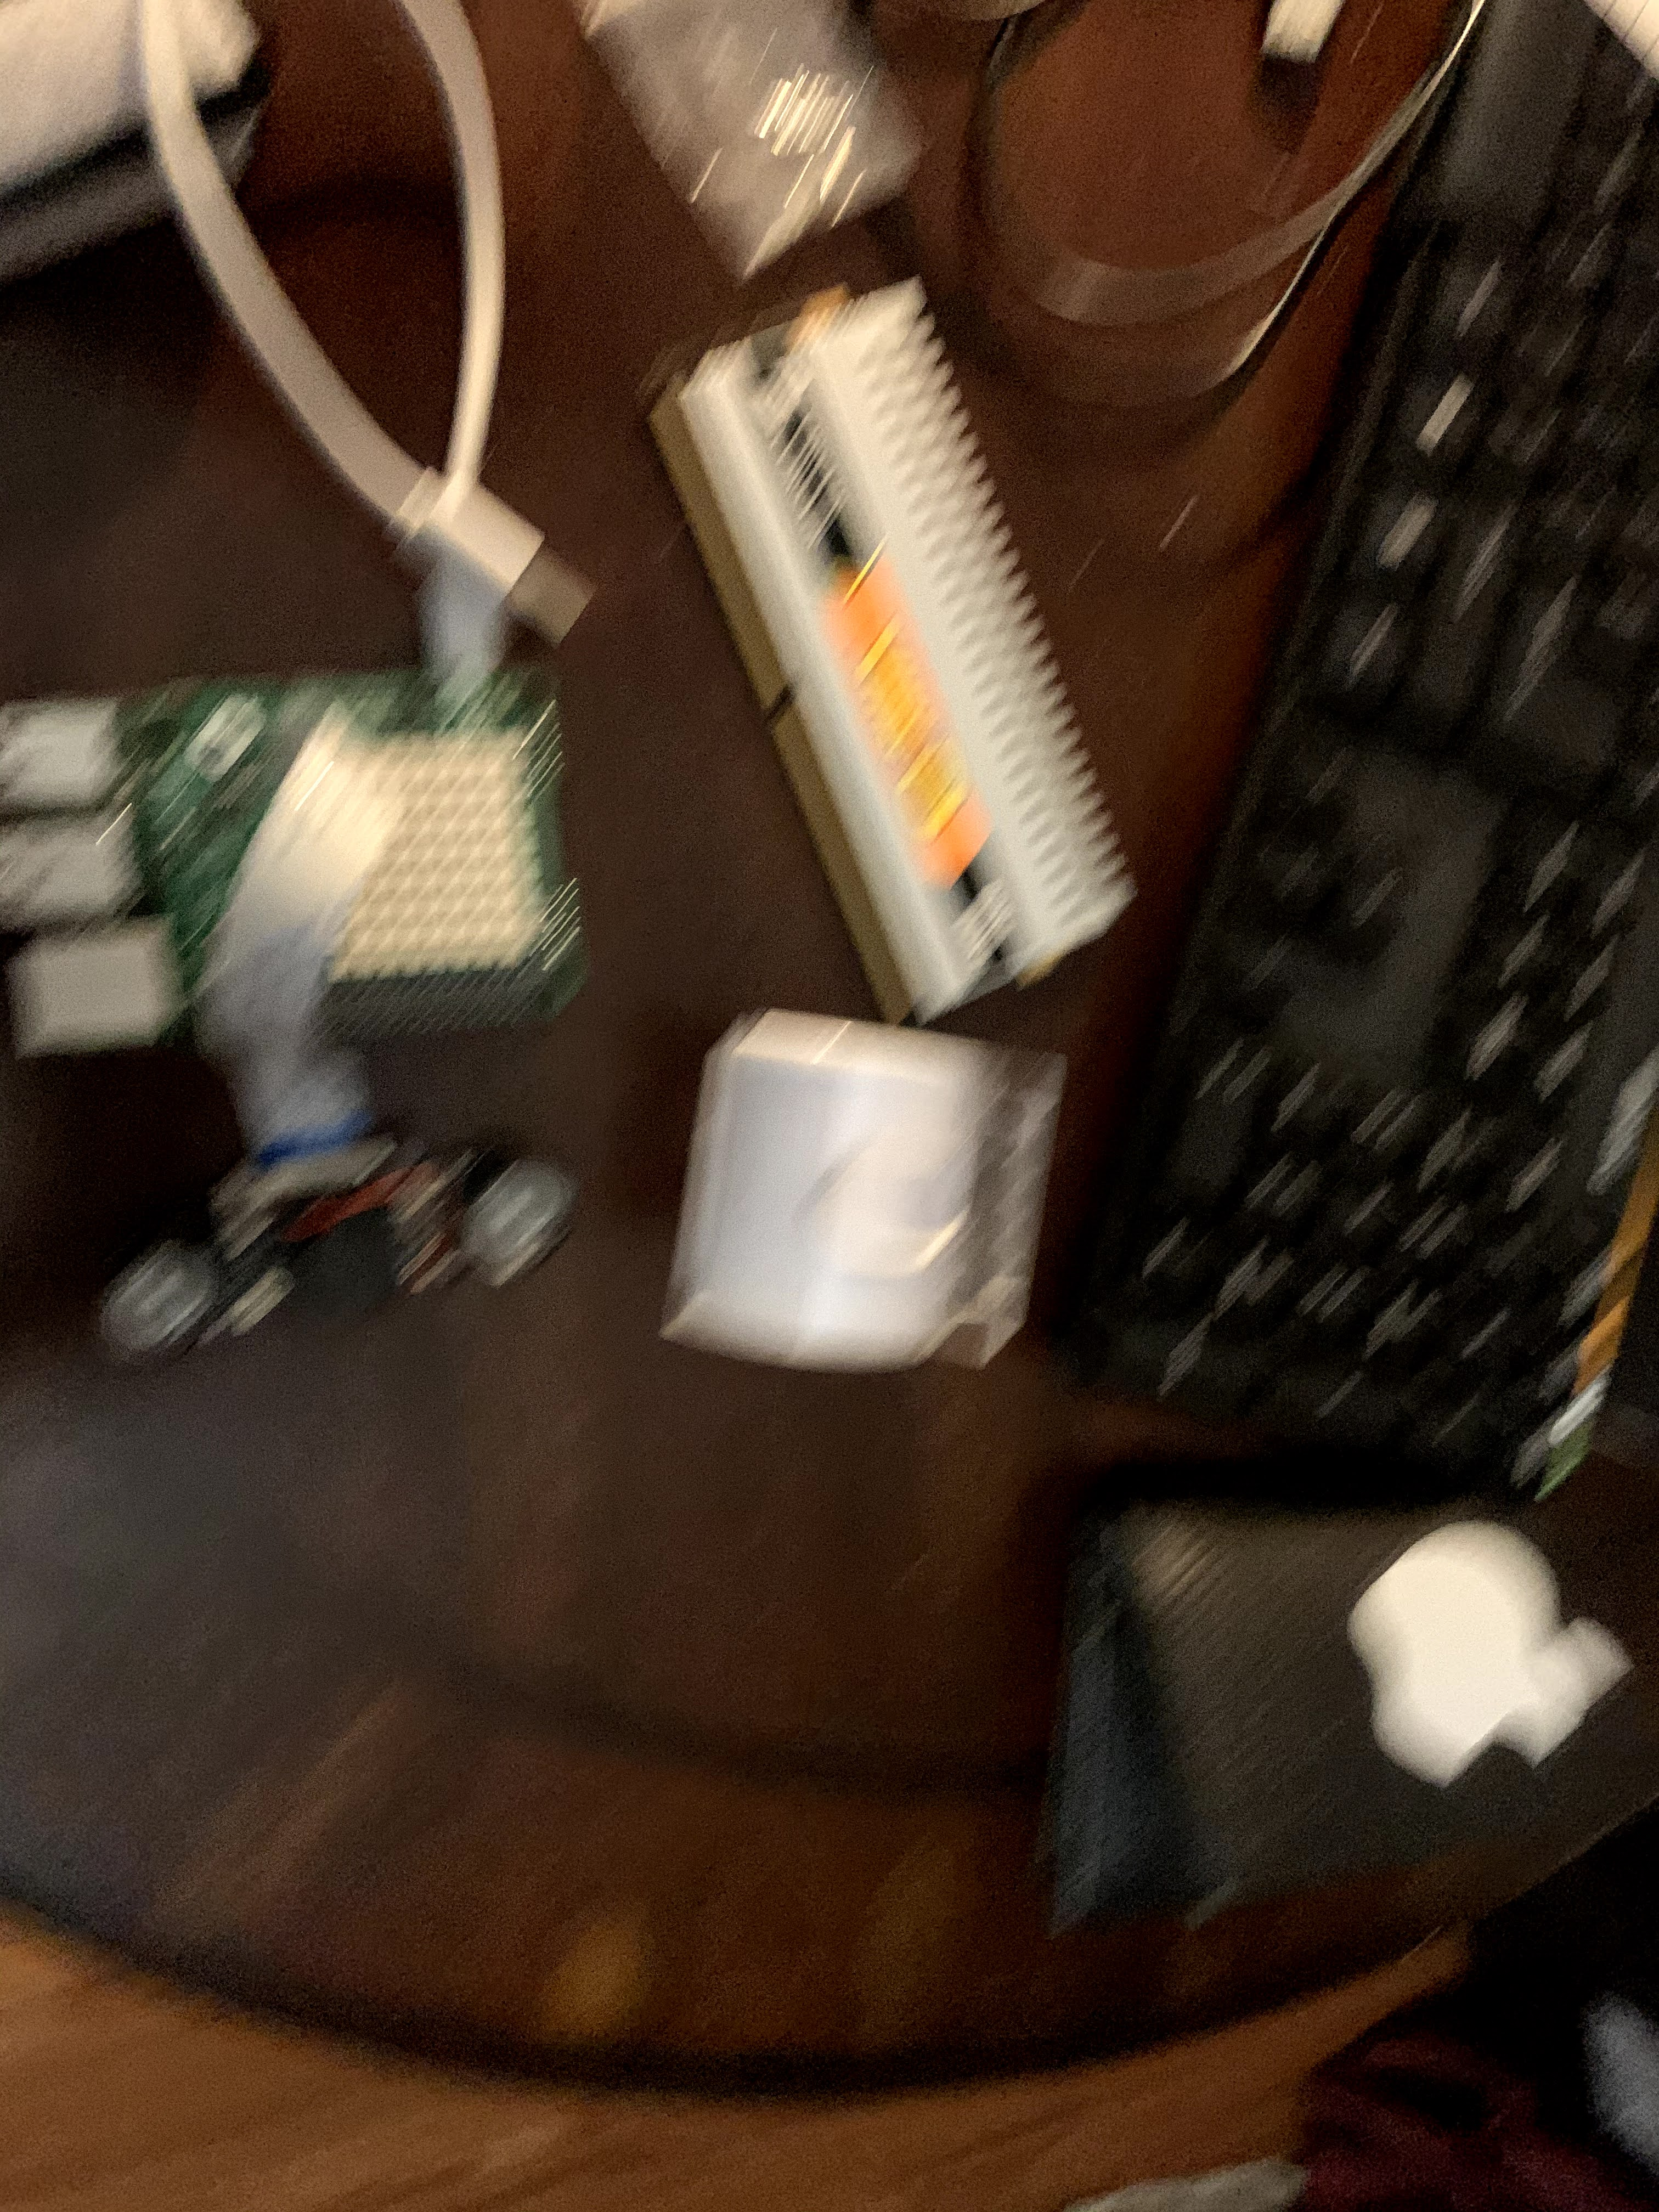Space-debris-medium: (619, 280, 1162, 1022)
